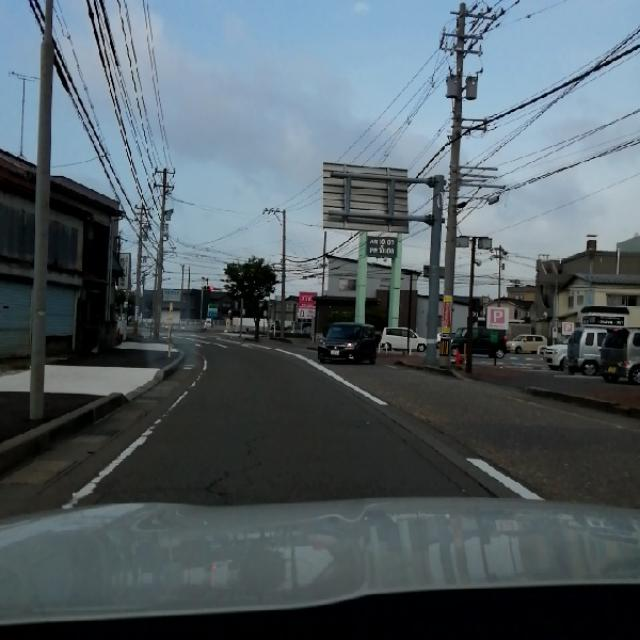pothole: (190, 434, 294, 504)
